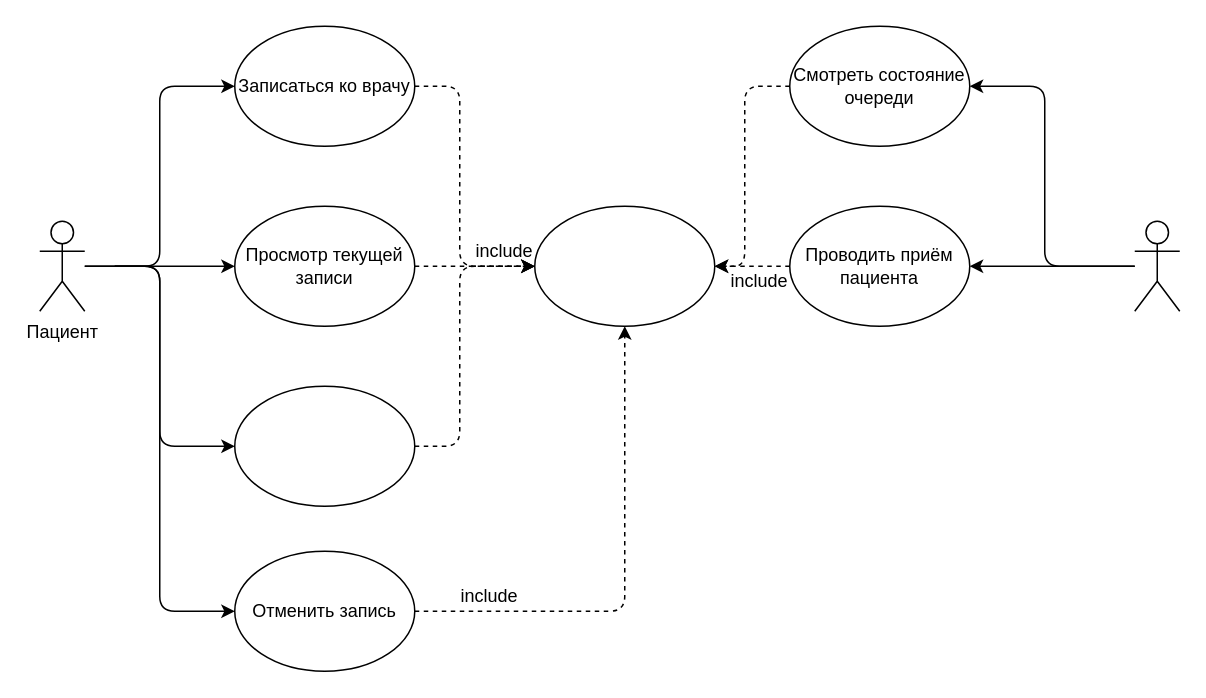
Image size: 1206x698. Some labels were removed from this diagram. Here are the shapes that lost their labels. From the top down, the centre of each, then its label:
At point 624,265: "Аутентификация в системе".
At point 1156,265: "Врач".
At point 324,445: "Просмотр истории записей".
